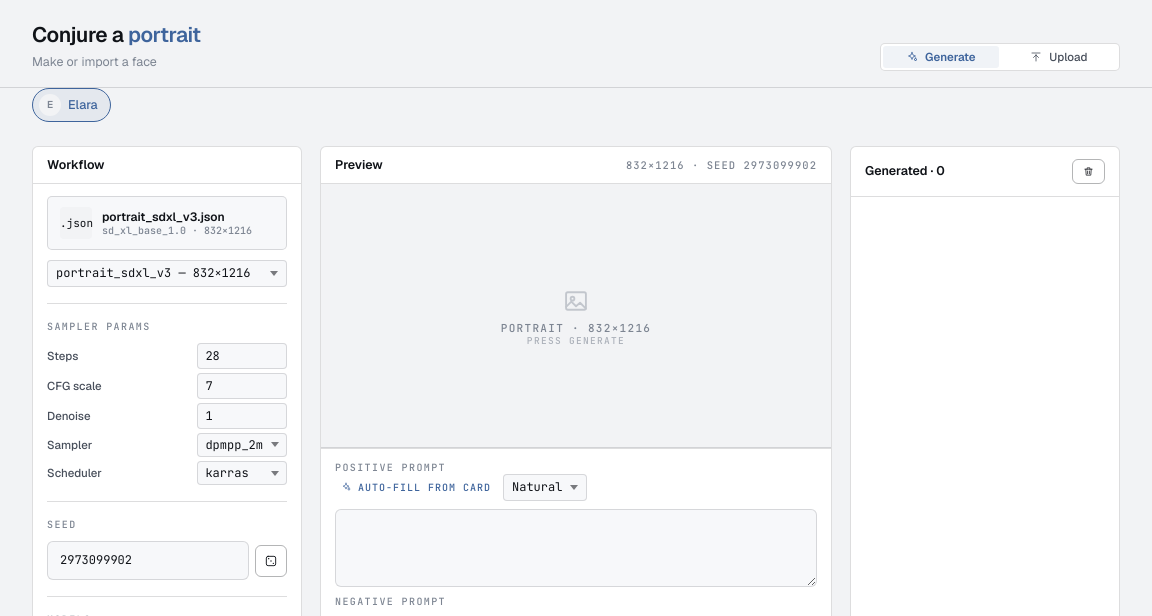
it: PortraitScreen › applies the turbo cfg and steps when selecting the zturbo workflow
Click the dropdown named "Workflow". click: [167, 274]
box: [47, 260, 287, 287]
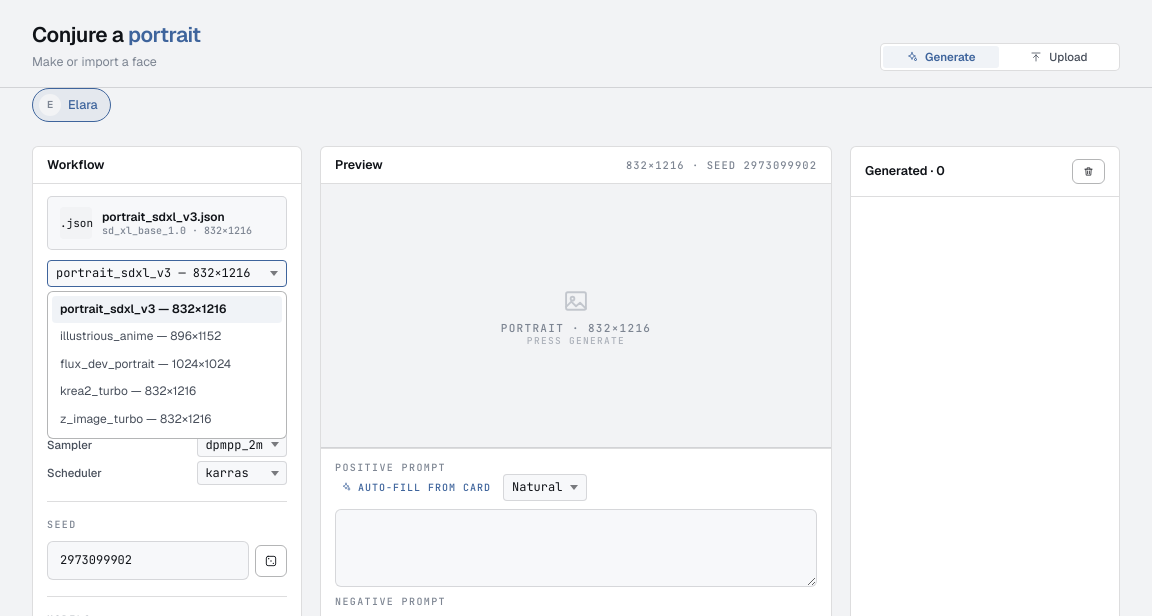
Click the option "z_image_turbo — 832×1216". click: [136, 419]
box: [60, 411, 212, 427]
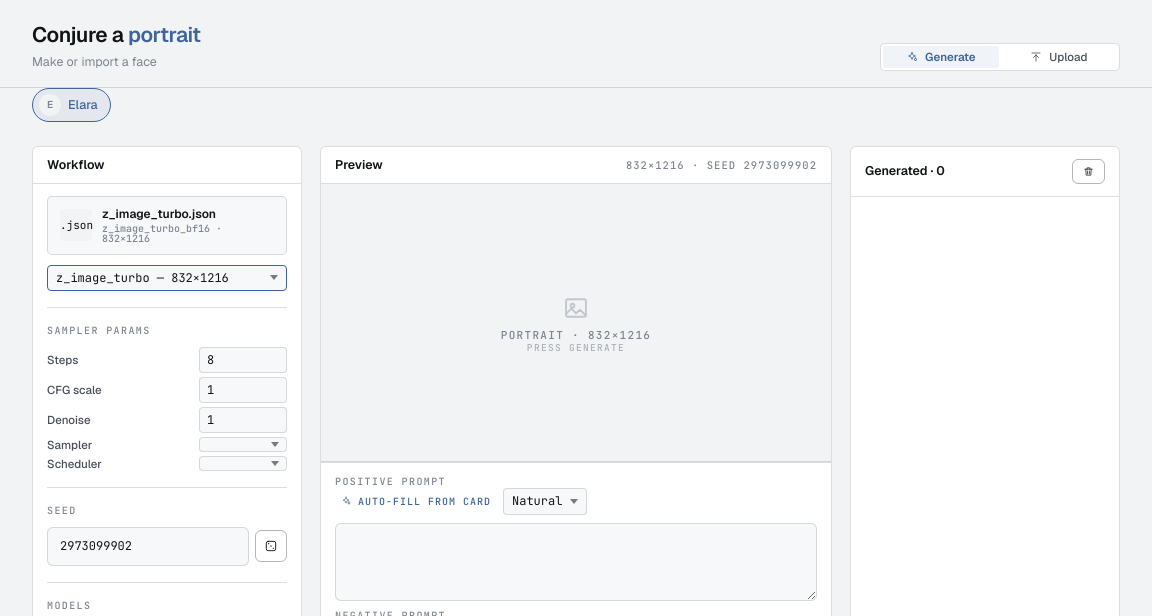
Check: the number field labelled "CFG scale" holds "1", box [199, 377, 287, 403]
Check: the number field labelled "Steps" holds "8", box [199, 347, 287, 373]
